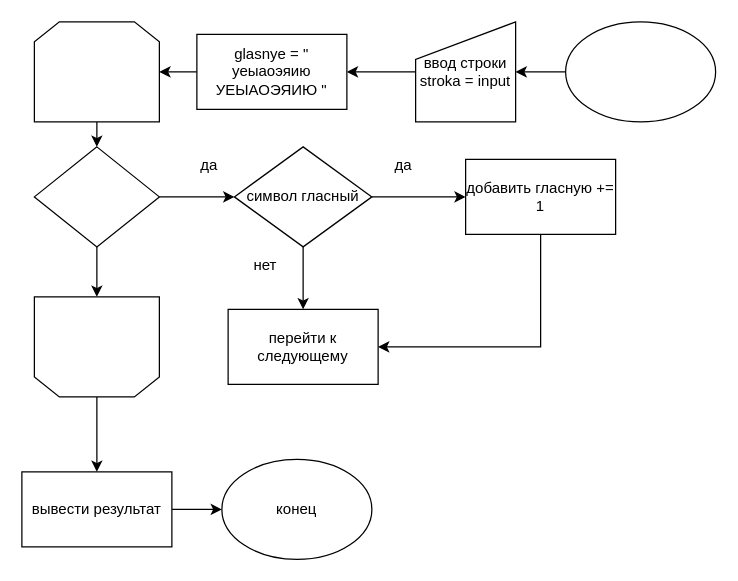
This 738x581 diagram has some shape labels left out. Each missing label, with the box of its shape:
start: (564, 21, 716, 122)
выйти из цикла: (33, 296, 159, 397)
для каждого индекса i в масиве: (33, 21, 159, 122)
есть еще символы: (33, 146, 159, 247)
